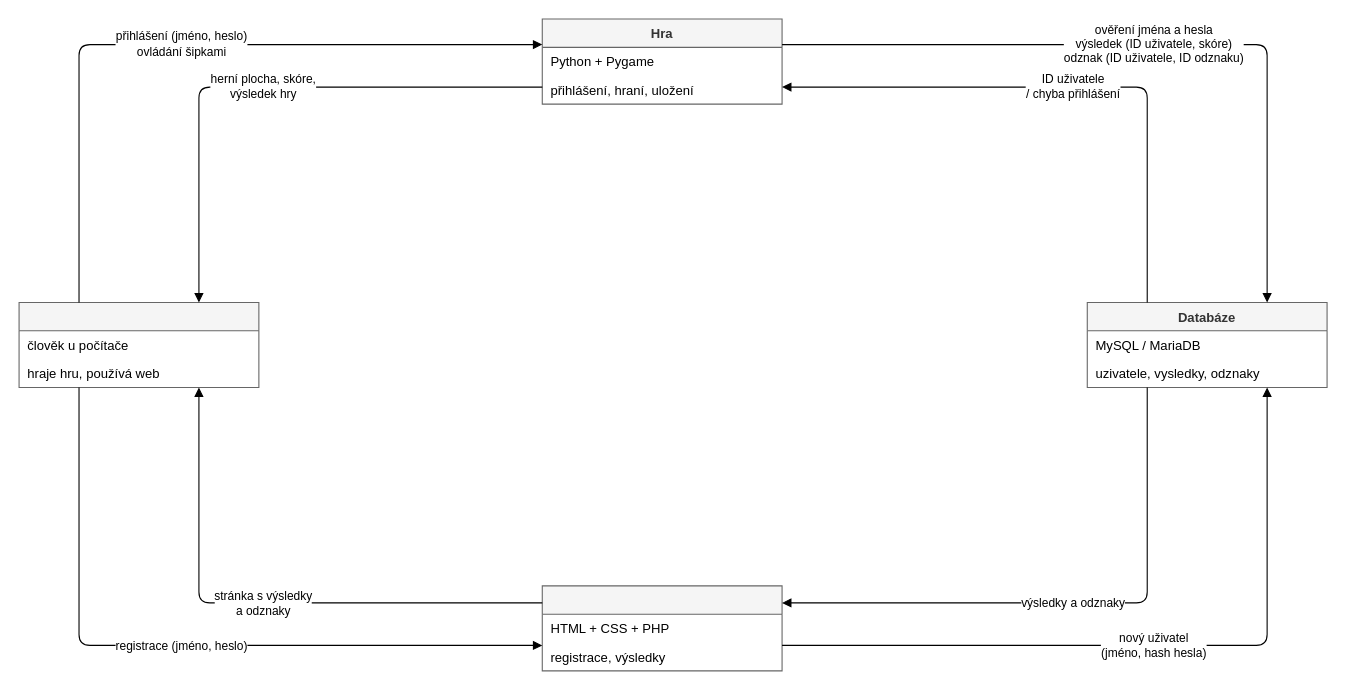
This 1346x690 diagram has some shape labels left out. The shapes that lost their labels are listed below. From the top down, each one's box as (x1, y1, x2, y2) in pixels, then its label:
(18, 301, 259, 387): Hráč
(541, 585, 782, 671): Web
